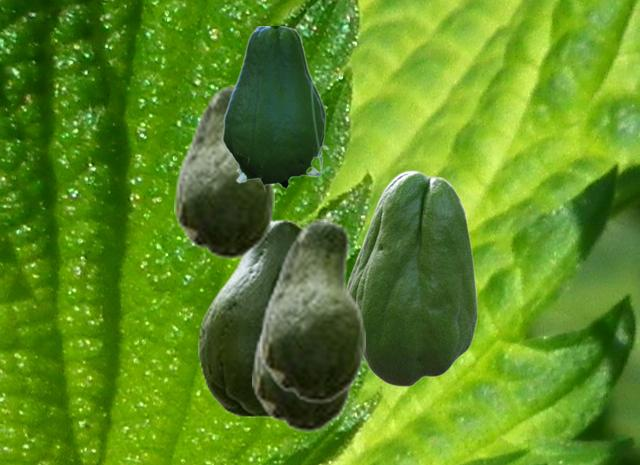sayote: (348, 170, 477, 386), (198, 219, 303, 416), (260, 219, 364, 403), (222, 26, 328, 191), (174, 85, 273, 259), (252, 290, 351, 432)
